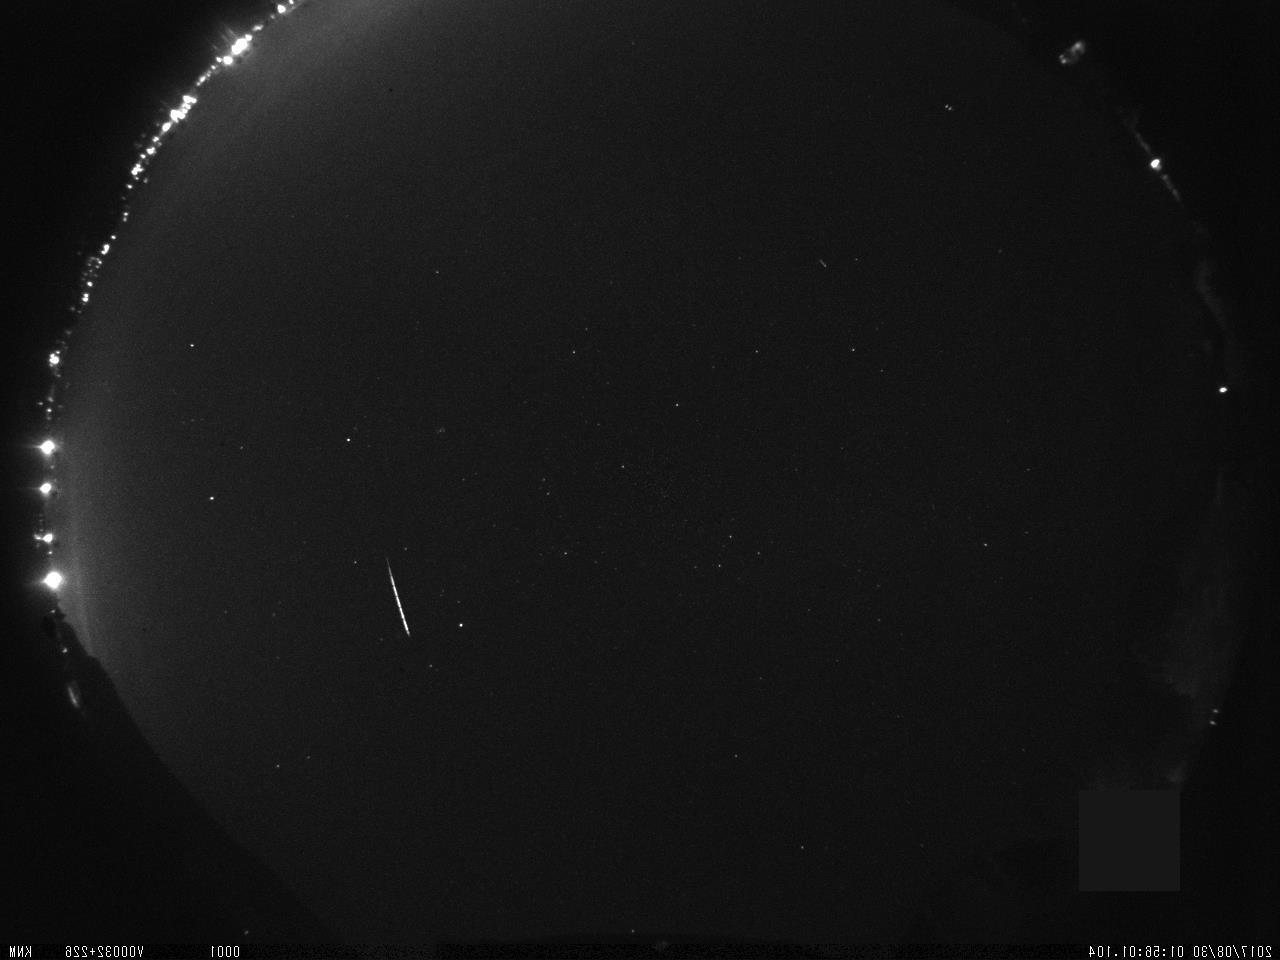meteor: (370, 550, 416, 640)
